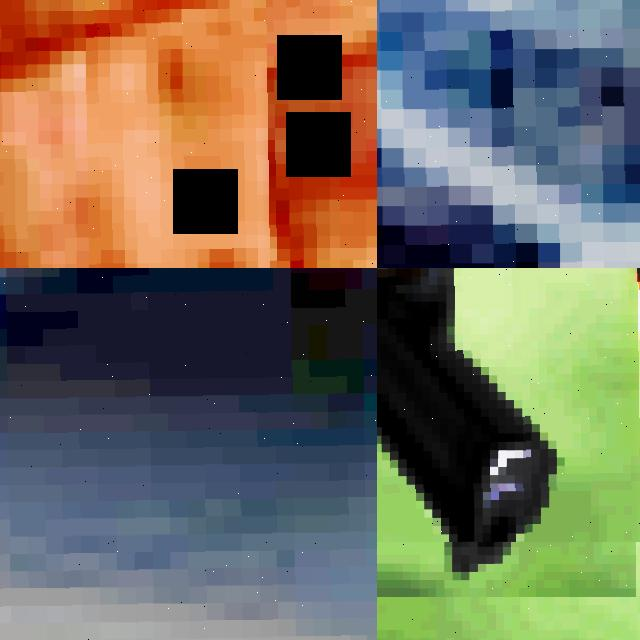arms: (0, 268, 377, 640), (0, 0, 330, 268), (377, 268, 640, 542), (377, 0, 640, 268)
